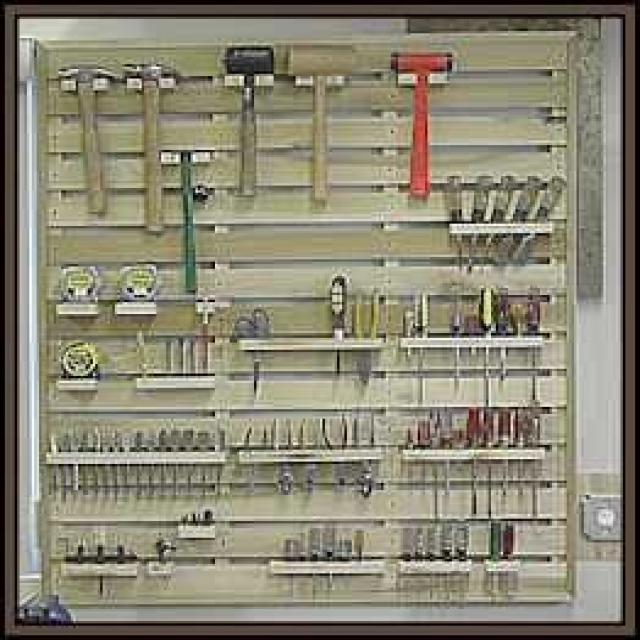hammer: (289, 45, 354, 202), (57, 65, 123, 214), (126, 64, 180, 231), (391, 52, 451, 198), (162, 150, 218, 295), (226, 48, 271, 196)
